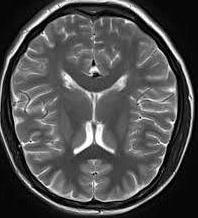Normal_Brain: (1, 1, 198, 218)
